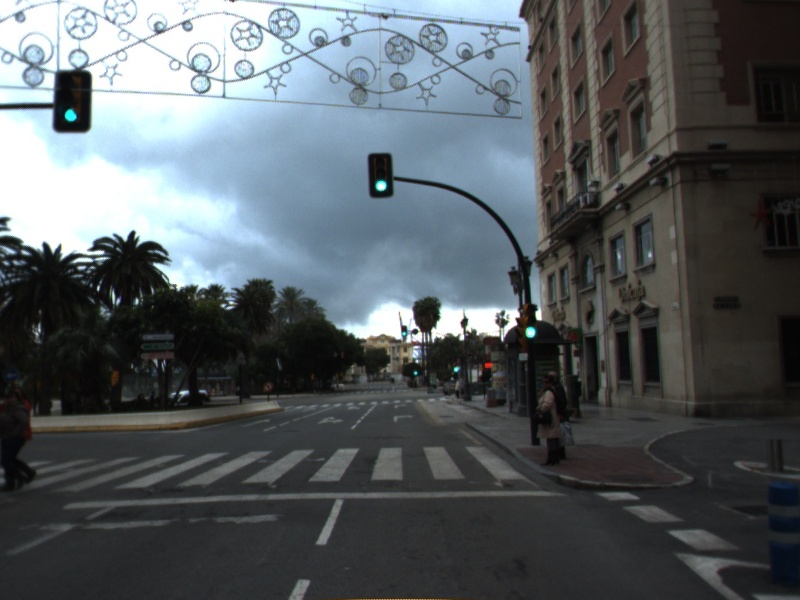RIGHT: (392, 412, 416, 424)
STRAIGHT: (238, 417, 272, 429)
STRAIGHT_RIGHT: (315, 414, 346, 426)
